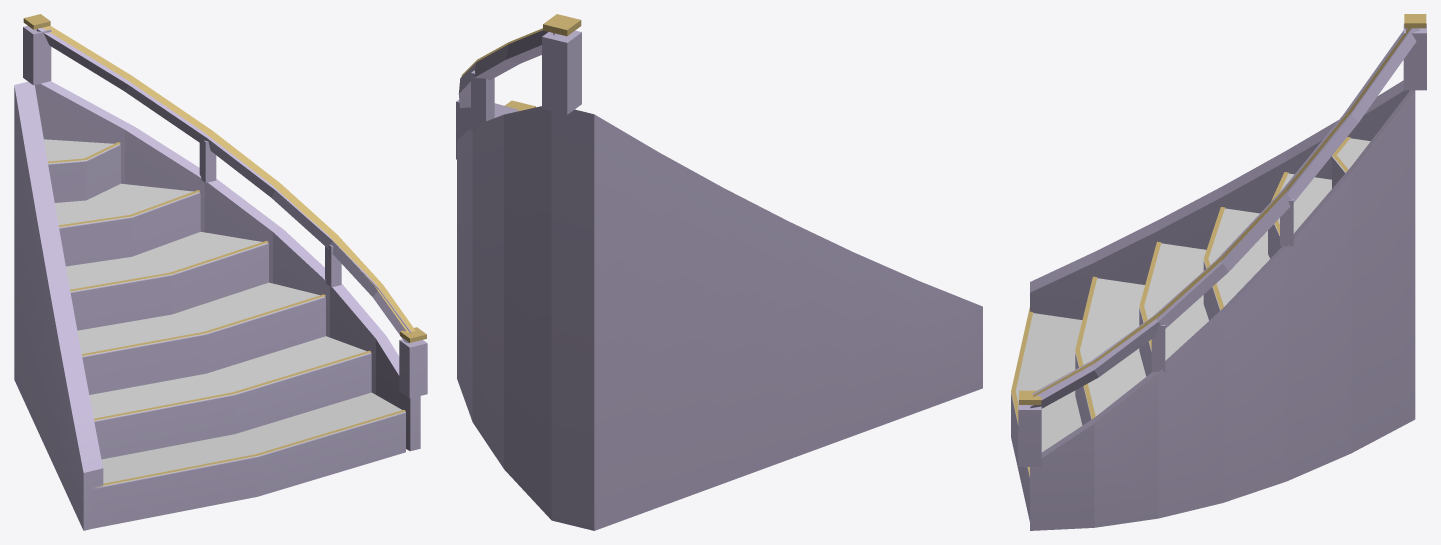
File: stairs.glb
3 renders of one model, left to right at view 1: azimuth 30°, elevation 25°; view 2: azimuth 150°, elevation 25°; view 3: azimuth 270°, elevation 25°, orthographic. The views are drawn at different scales.
Visible parts, largest first — view 1: root_mesh; view 2: root_mesh; view 3: root_mesh.
Part boxes in pixels (bbox=[...]): root_mesh: bbox=[14, 14, 427, 530]; root_mesh: bbox=[456, 14, 982, 530]; root_mesh: bbox=[1011, 14, 1426, 530].
Bounding box in the file's own units: 2 × 2 × 1.9.
